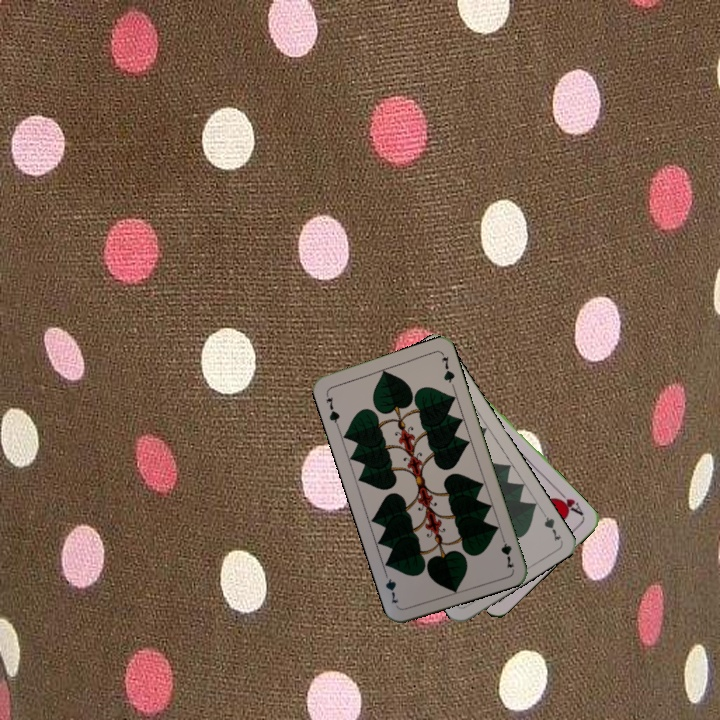G7: (537, 506, 564, 544), (497, 530, 517, 571), (322, 389, 342, 429)
HA: (551, 486, 586, 518)
